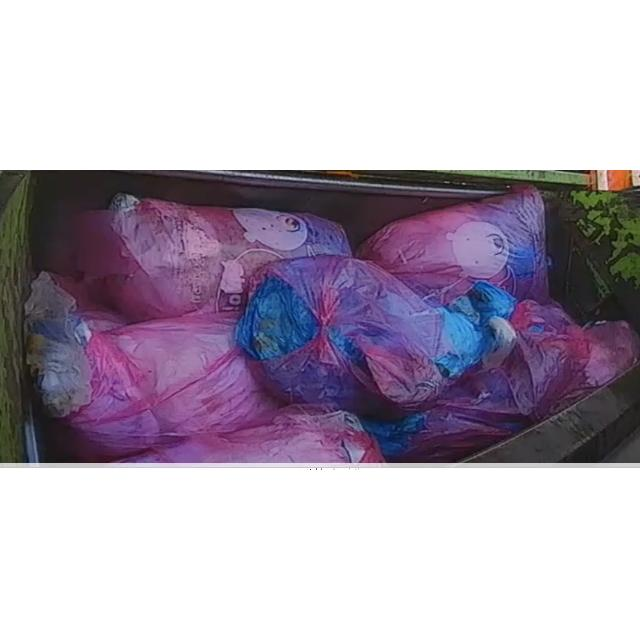other_trashbag: (235, 256, 516, 418), (26, 272, 262, 459), (64, 194, 351, 321), (366, 300, 589, 461), (358, 185, 549, 306)
